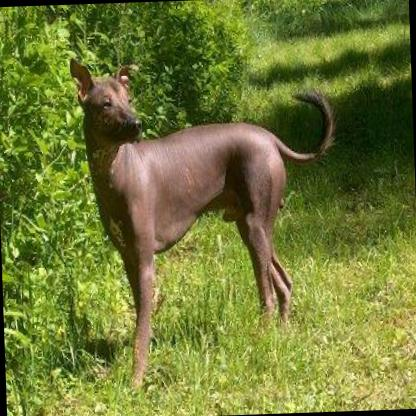Mexican_hairless: (58, 35, 357, 396)
